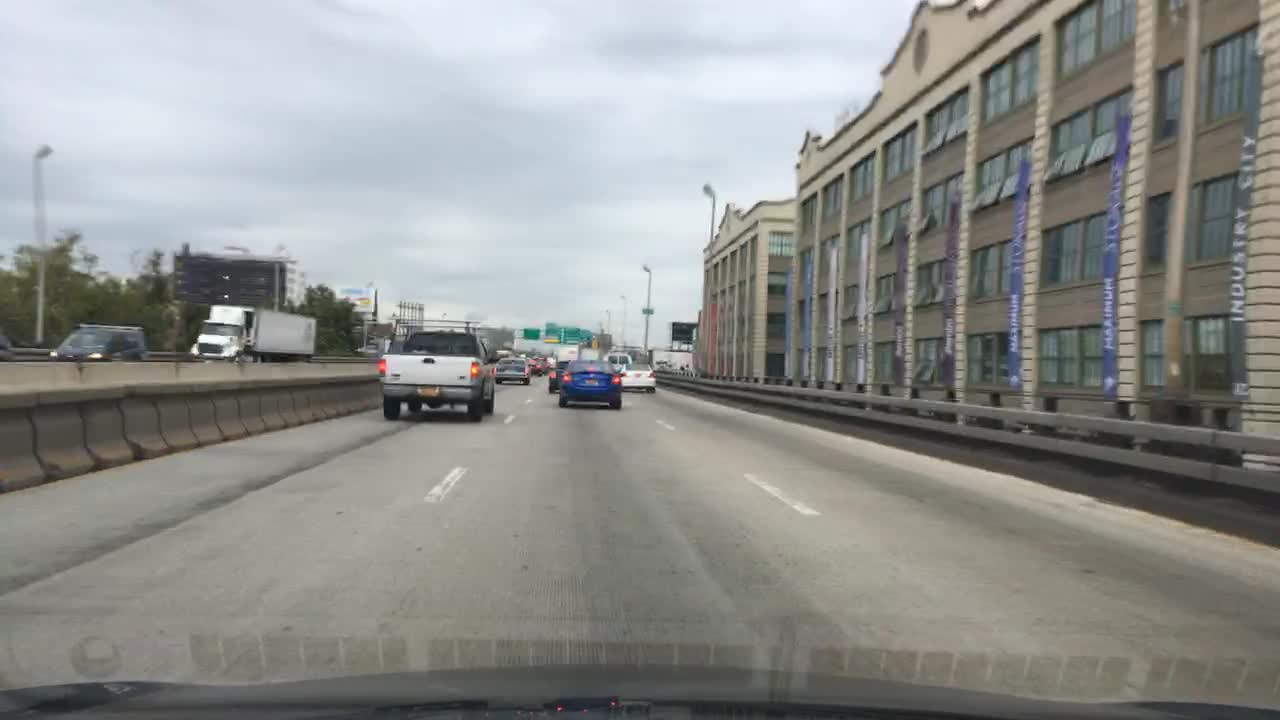car: (45, 322, 146, 360), (561, 360, 625, 406), (620, 360, 655, 392), (493, 356, 530, 386), (543, 360, 572, 391), (605, 351, 630, 368), (526, 358, 549, 373)
traffic sign: (563, 326, 580, 345), (543, 329, 562, 340), (580, 328, 590, 344), (641, 306, 653, 315), (525, 328, 538, 336), (544, 322, 557, 329)
truck: (375, 317, 497, 422), (186, 304, 319, 363)
